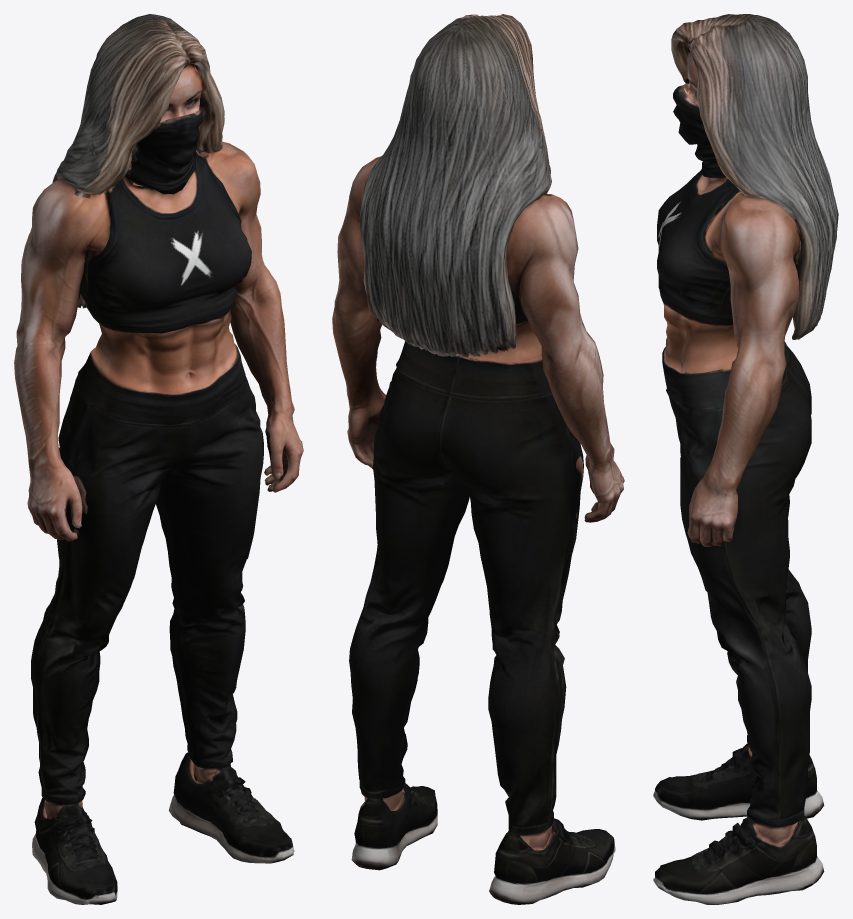
File: SOFIA.glb
3 renders of one model, left to right at view 1: azimuth 30°, elevation 25°; view 2: azimuth 150°, elevation 25°; view 3: azimuth 270°, elevation 25°, orthographic.
Visible parts, largest first — view 1: tripo_node_1333a2cd-3aa5-4e2a-ba79-88f76b3b272b; view 2: tripo_node_1333a2cd-3aa5-4e2a-ba79-88f76b3b272b; view 3: tripo_node_1333a2cd-3aa5-4e2a-ba79-88f76b3b272b.
Boxes of the visible parts, left/top/right/bottom form: tripo_node_1333a2cd-3aa5-4e2a-ba79-88f76b3b272b: left=14, top=14, right=303, bottom=904; tripo_node_1333a2cd-3aa5-4e2a-ba79-88f76b3b272b: left=332, top=14, right=624, bottom=904; tripo_node_1333a2cd-3aa5-4e2a-ba79-88f76b3b272b: left=653, top=14, right=838, bottom=904.
Bounding box in the file's own units: 0.3275 × 0.9786 × 0.1972.
1 material, 1 textured.
